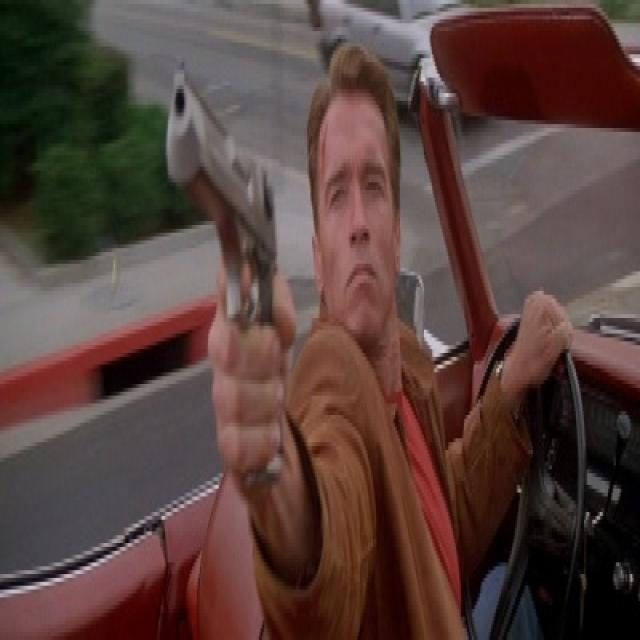weapons: (159, 51, 296, 413)
